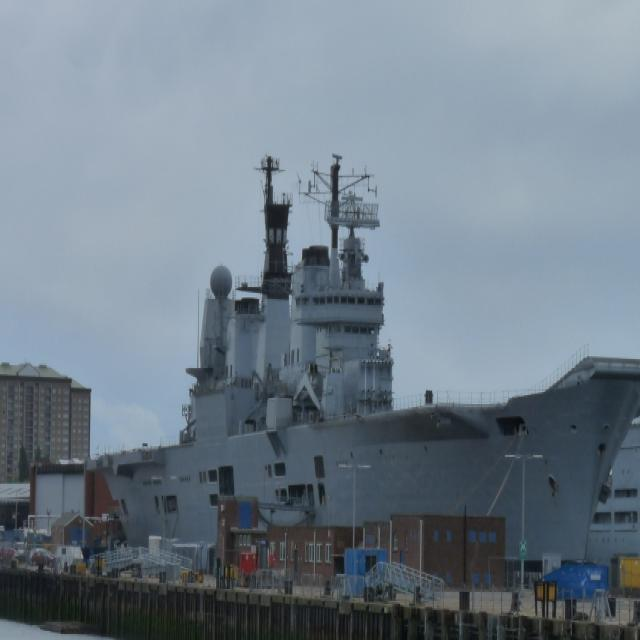Portanaves: (66, 124, 640, 599)
